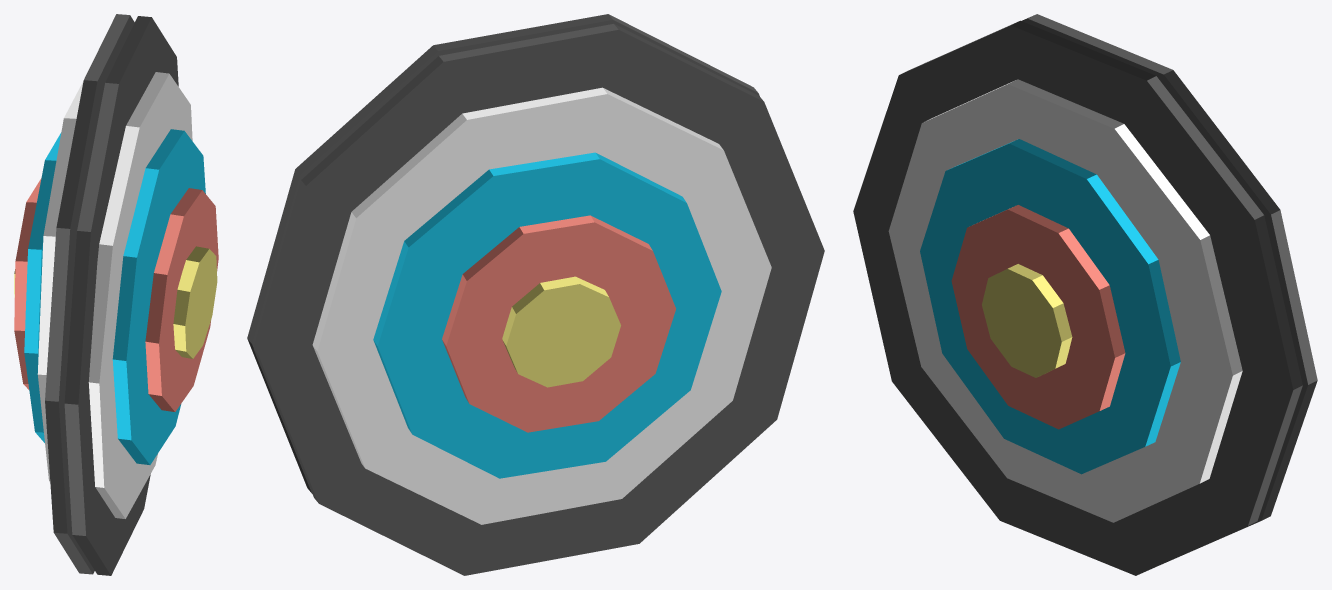
The model's file is diana.fbx.
The picture shows the model from 3 angles, left to right: view 1: azimuth 30°, elevation 25°; view 2: azimuth 150°, elevation 25°; view 3: azimuth 270°, elevation 25°; orthographic projection. The views are drawn at different scales.
Visible parts, largest first — view 1: model; view 2: model; view 3: model.
Boxes of the visible parts, left/top/right/bottom form: model: left=14, top=14, right=218, bottom=575; model: left=247, top=14, right=824, bottom=575; model: left=853, top=14, right=1317, bottom=575.
Bounding box in the file's own units: 13.98 × 19.25 × 15.94.
